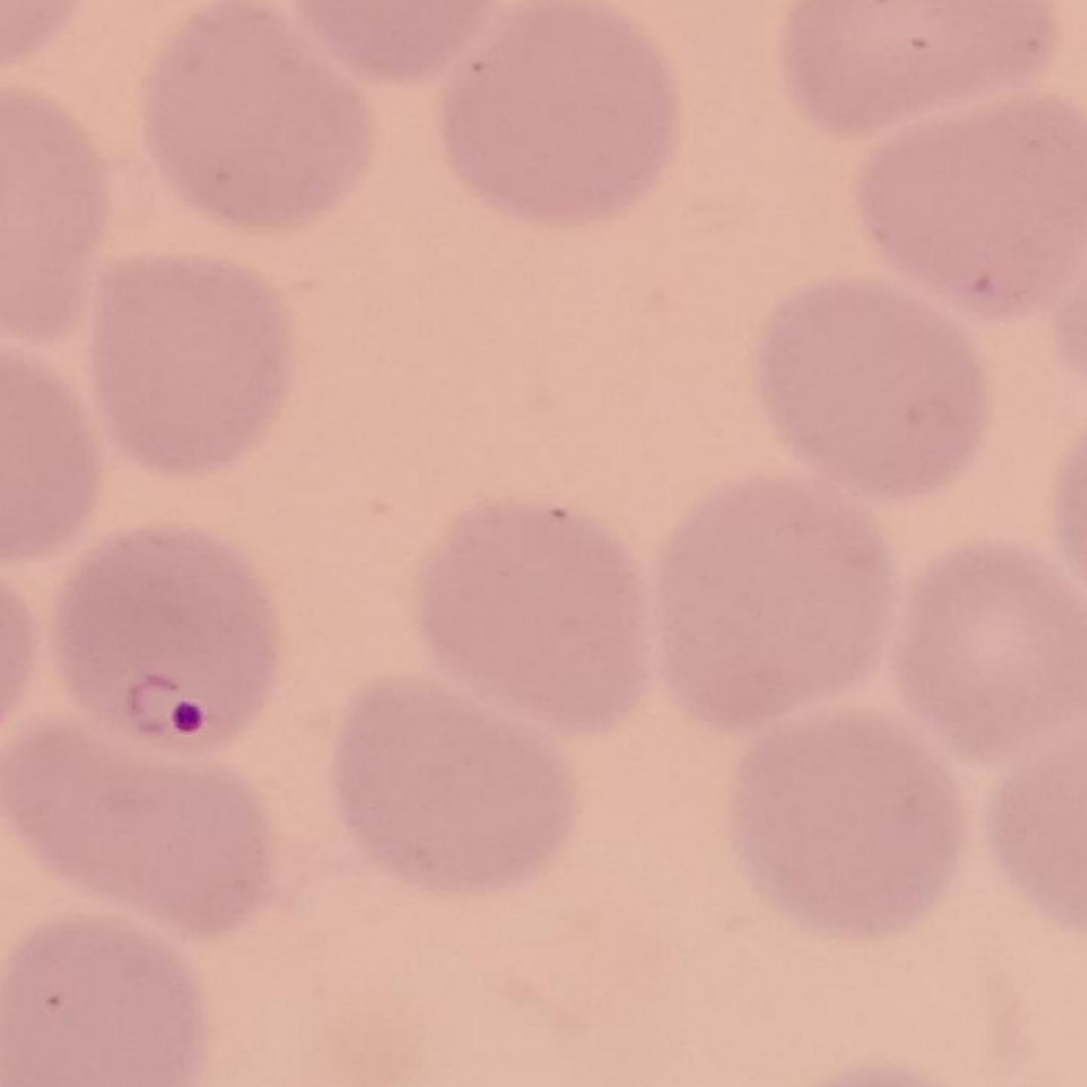Infected: (55, 526, 283, 743)
Uninfected: (0, 722, 265, 936), (438, 0, 679, 223), (659, 484, 887, 716), (724, 725, 969, 934), (422, 506, 649, 728), (862, 101, 1087, 324), (151, 3, 372, 222), (769, 282, 986, 505), (337, 680, 570, 882), (98, 257, 292, 470)
